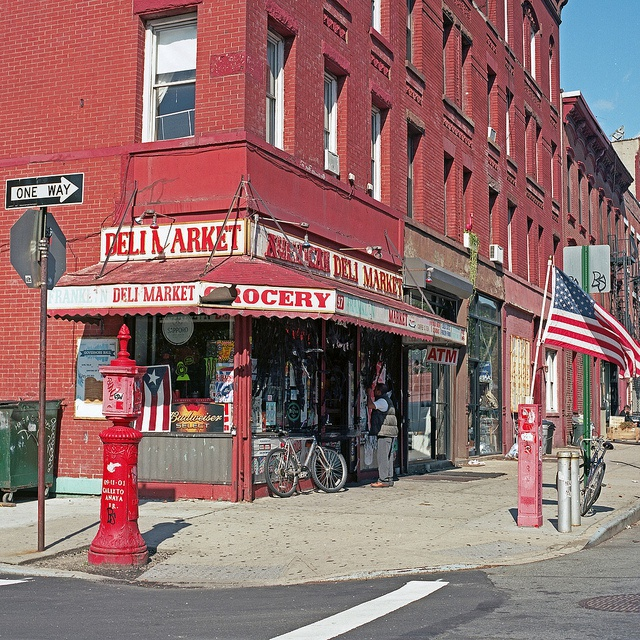non-vehicle: (265, 436, 347, 497), (580, 440, 614, 514)
